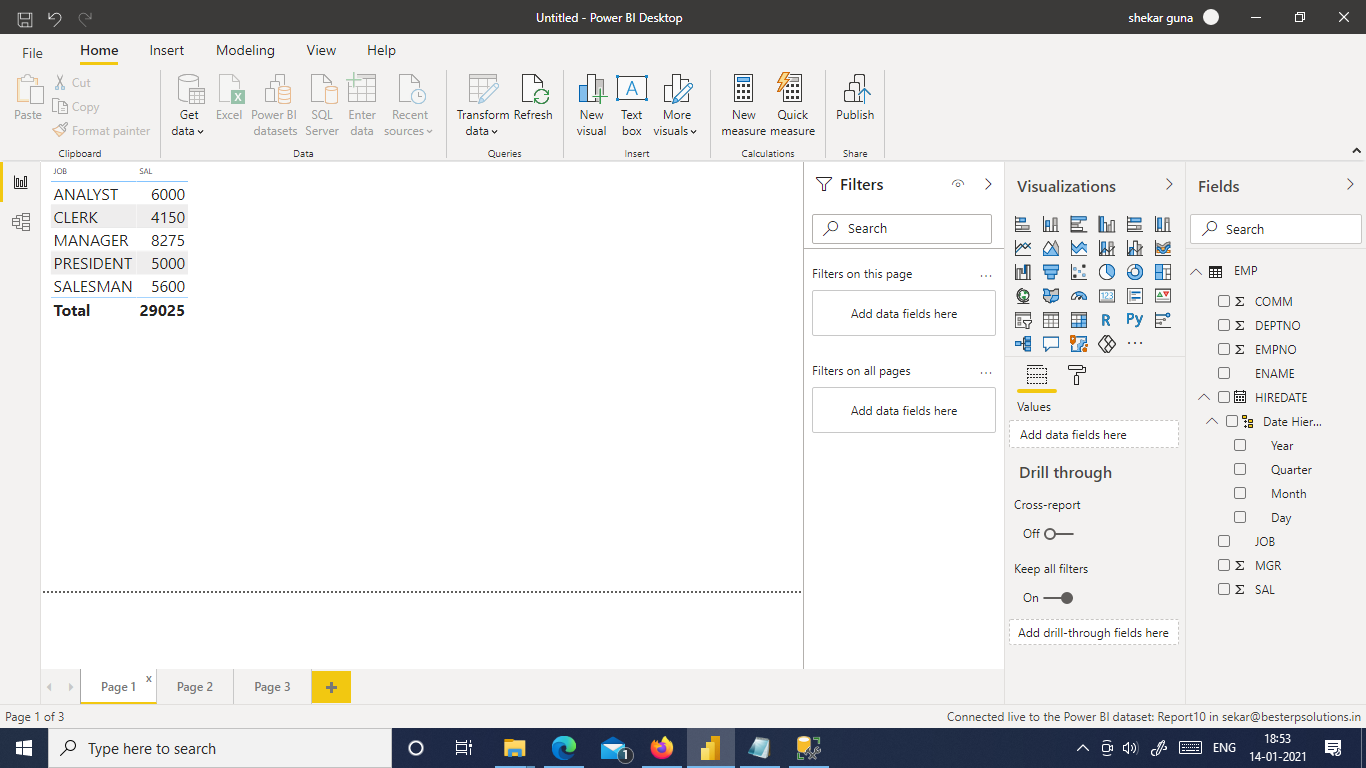

Layout of this report page (visuals, bound fields, positions):
{"tool":"powerbi","page":{"name":"Page 1","canvas":[1280,720],"ordinal":0},"visuals":[{"type":"actionButton","box":[0,0,100,40],"z":0},{"type":"actionButton","box":[0,0,100,40],"z":1000},{"type":"treemap","fields":{"Group":["EMP.JOB"],"Values":["Sum(EMP.SAL)"]},"box":[149.5,179.7,947.4,384.7],"z":1001}]}

Visuals, with their boxes on the page's 1280x720 design canvas (x1, y1, x2, y2). These are canvas units, not pixel positions in the 1366x768 screenshot, which may show the page scaled, cropped or inside an application window:
actionButton: [0,0,100,40]
actionButton: [0,0,100,40]
treemap - EMP.JOB x Sum(EMP.SAL): [150,180,1097,564]
